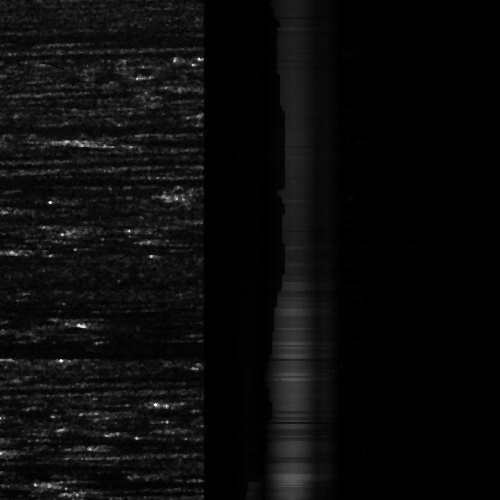object: (0, 129, 187, 148), (20, 475, 103, 486), (56, 488, 109, 493)
shadow: (0, 120, 149, 137), (0, 169, 140, 186), (0, 308, 167, 319), (83, 129, 172, 148), (62, 475, 156, 486), (82, 488, 178, 493)
